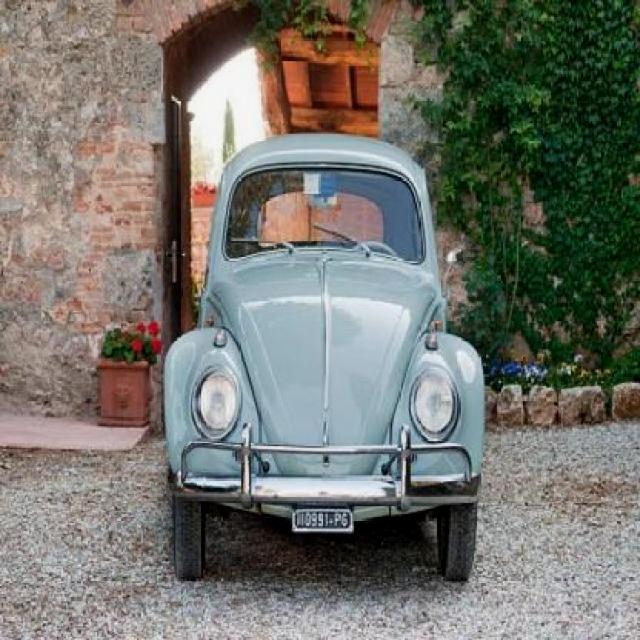car: (162, 131, 487, 593)
